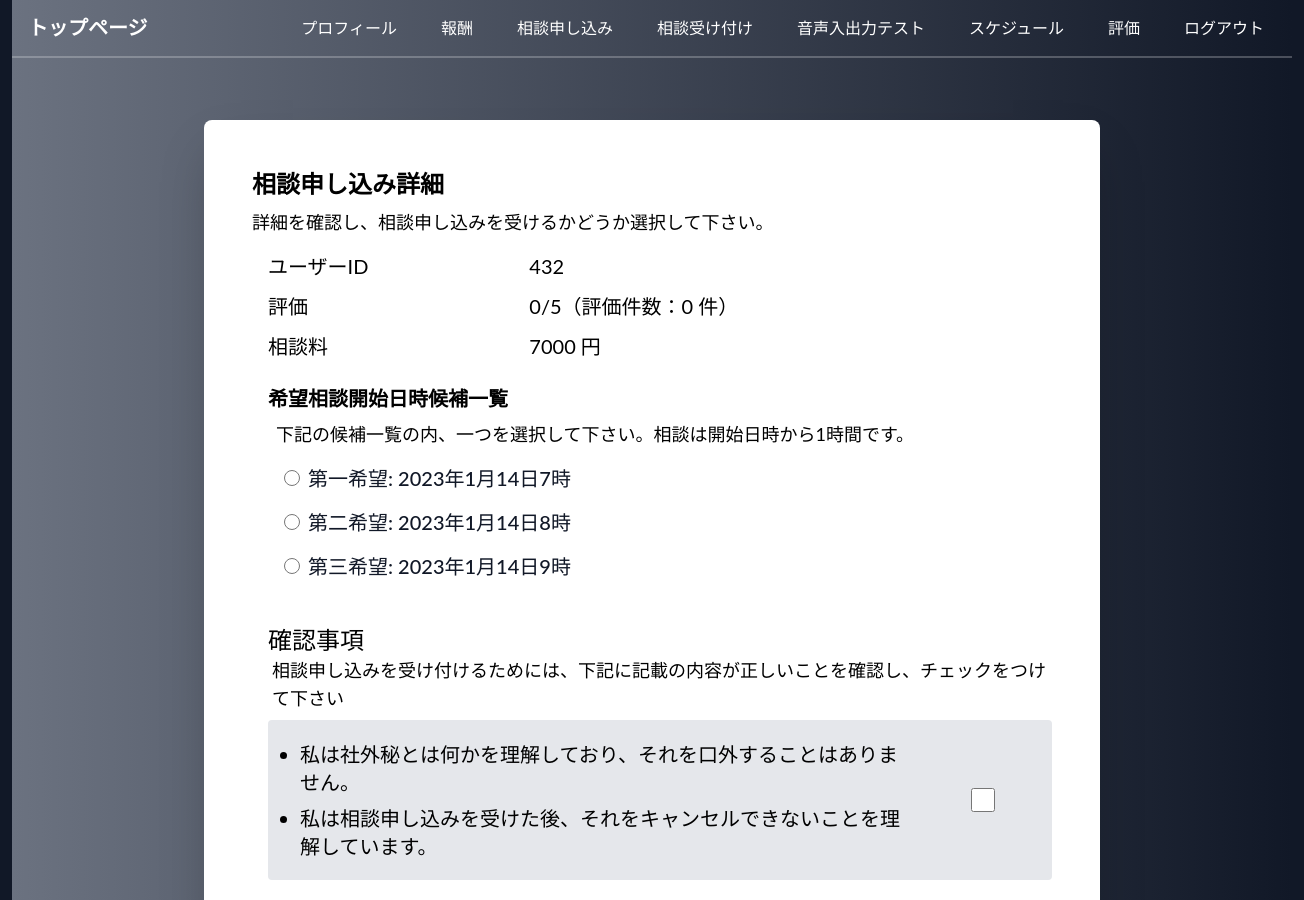
Test: ConsultationRequestDetailPage.vue › displays AlertMessage when error has happened on acceptance
The image size is (1304, 900).
Click the radio button with test id "first-candidate" at coordinates (292, 478), box [284,470,300,486]
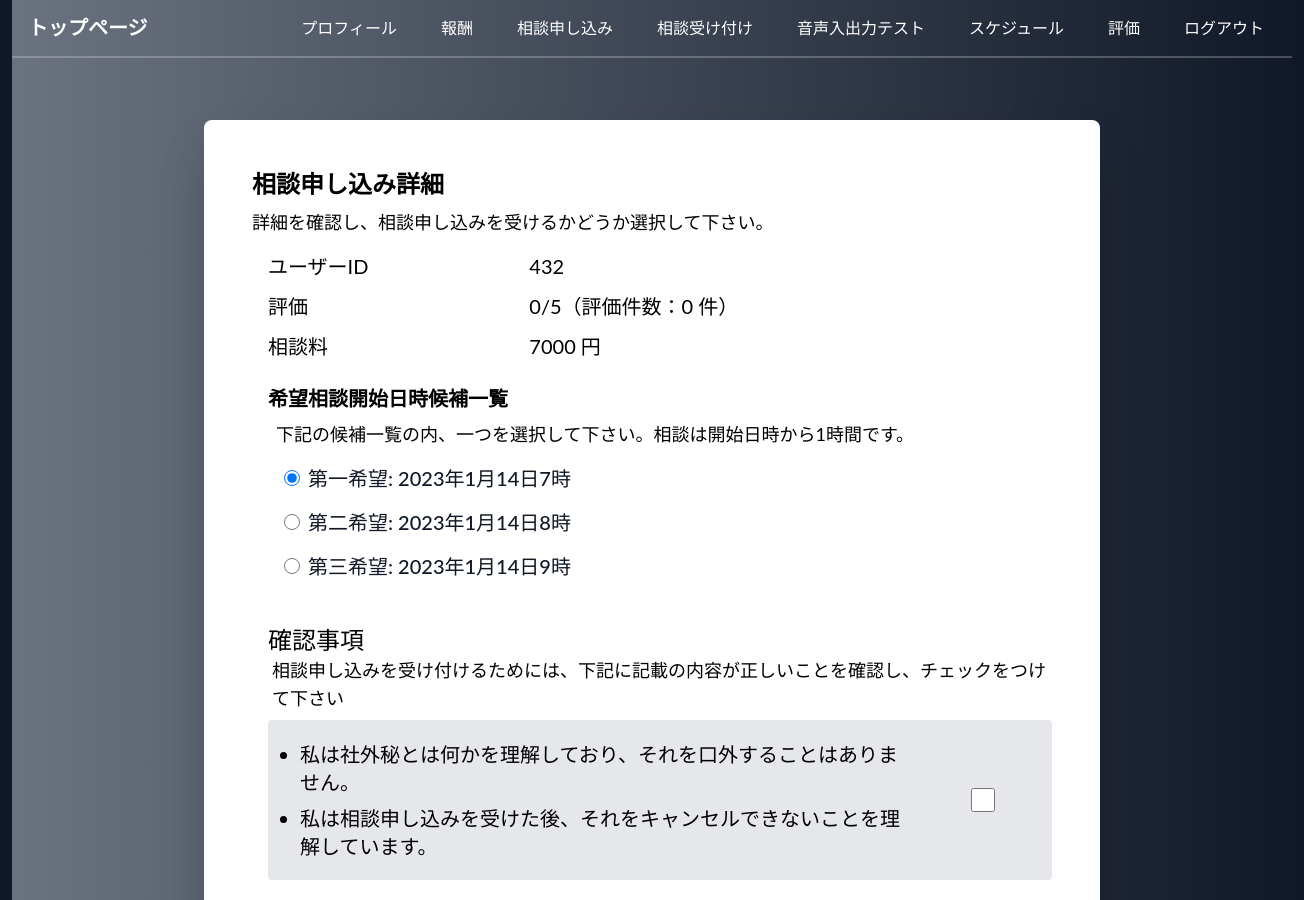
Click the checkbox with test id "user-checked" at coordinates (983, 800), box [971,788,995,812]
(page scrolled)
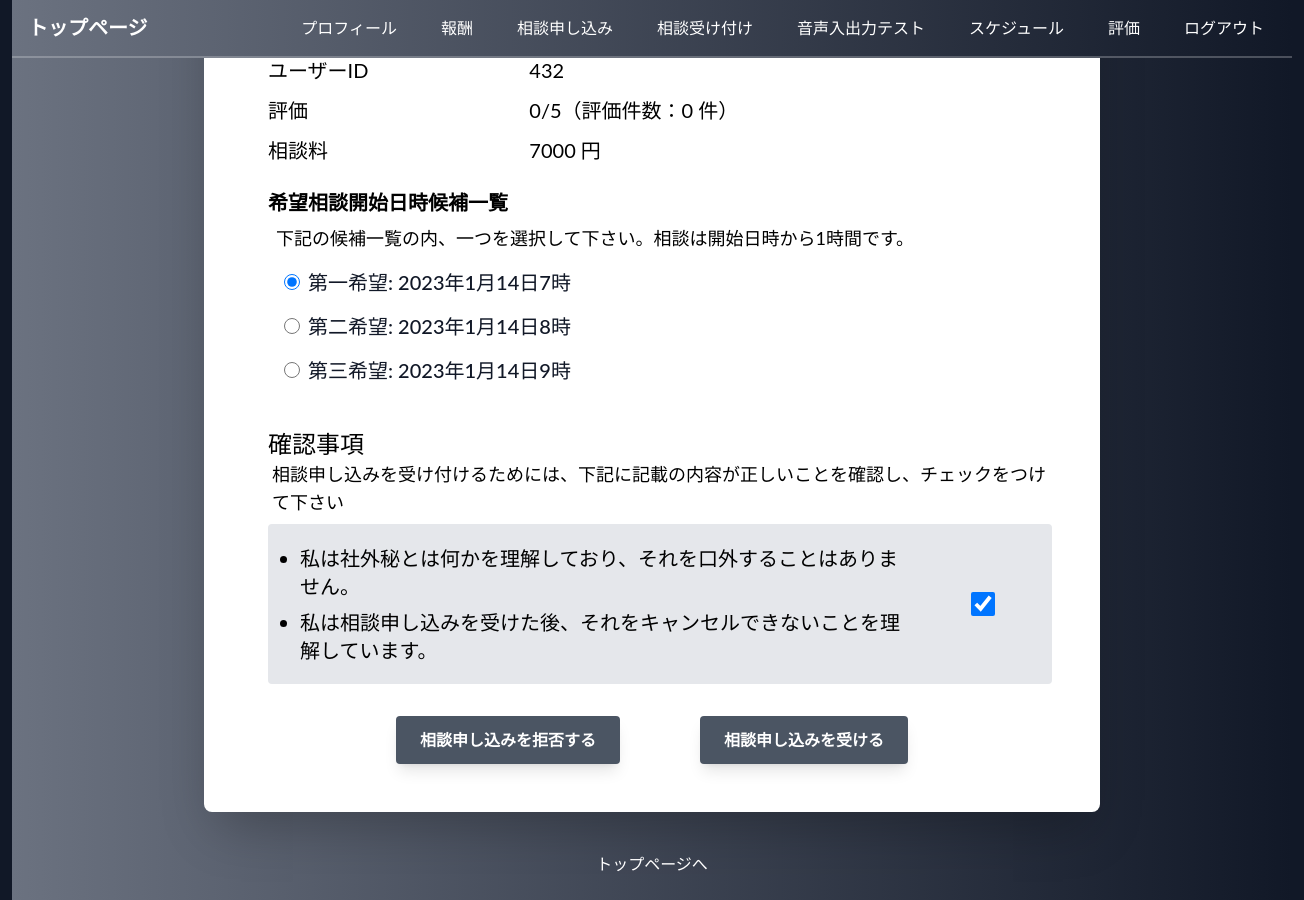
Click the button with test id "accept-btn" at coordinates (804, 740), box [700,716,908,764]
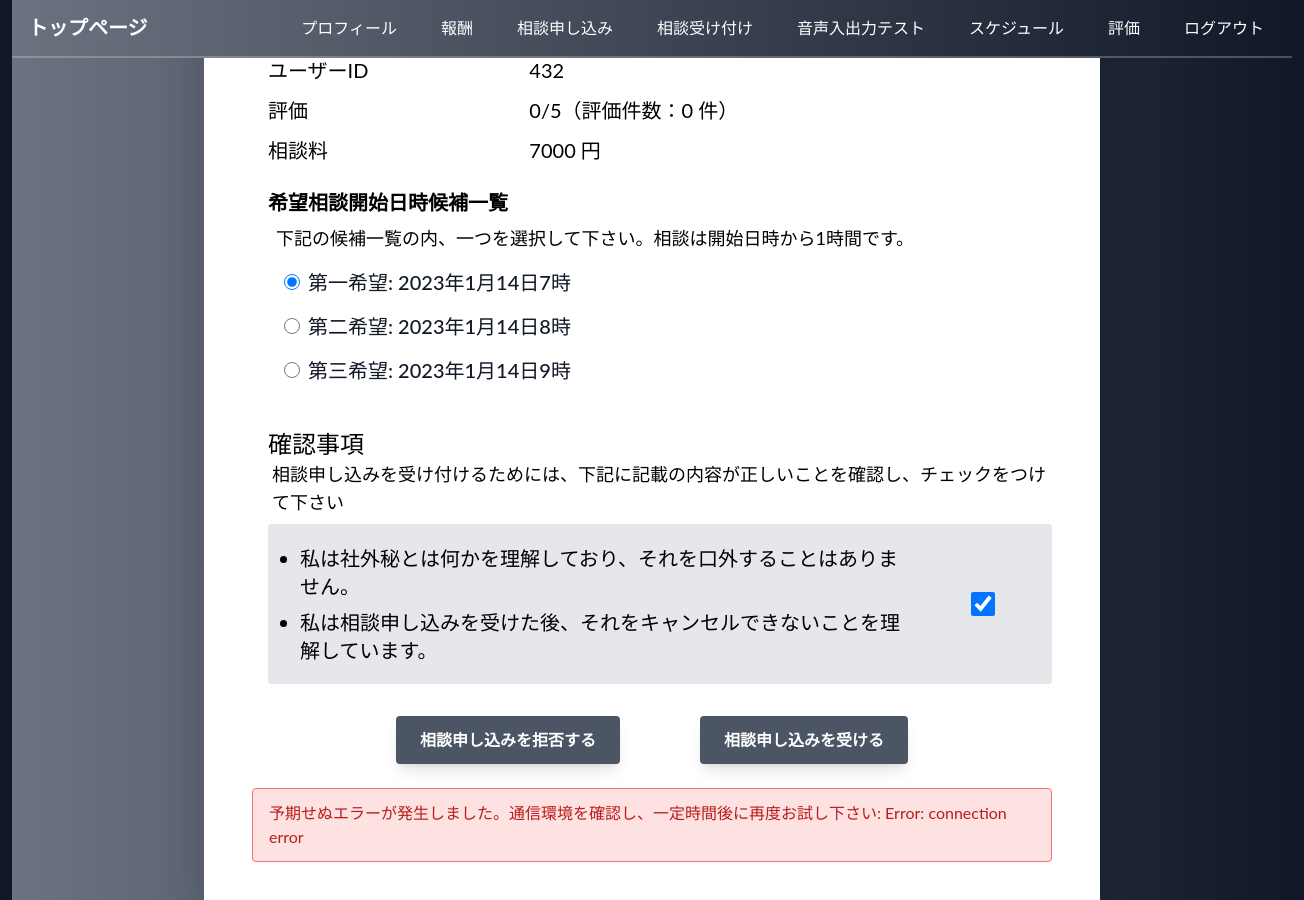
Expected: the element with test id "error-below-btn" is shown, [252,788,1052,862]
Expected: the element with test id "error-below-btn" shows "connection error", [269,803,1007,846]
